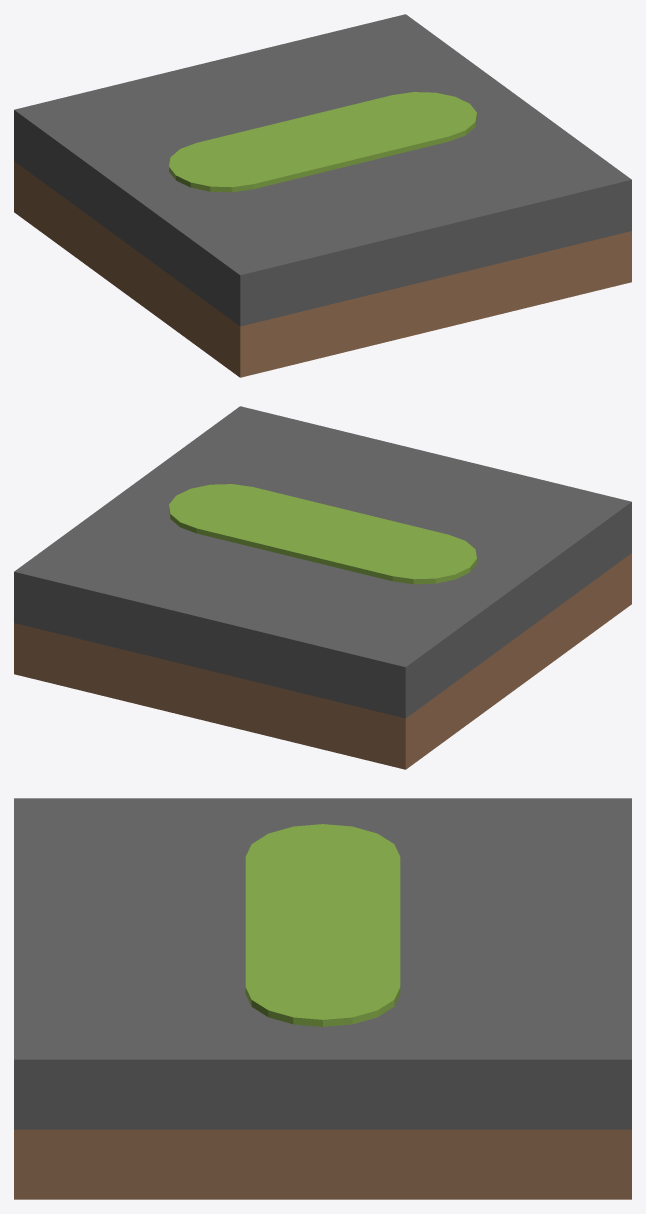
Rendered from lot-parking.obj.
The picture shows the model from 3 angles, top to bottom: view 1: azimuth 30°, elevation 25°; view 2: azimuth 150°, elevation 25°; view 3: azimuth 270°, elevation 25°; orthographic projection. The views are drawn at different scales.
Visible parts, largest first — view 1: lot-parking_Cube.017; view 2: lot-parking_Cube.017; view 3: lot-parking_Cube.017.
Boxes of the visible parts, left/top/right/bottom form: lot-parking_Cube.017: left=14, top=14, right=631, bottom=377; lot-parking_Cube.017: left=14, top=406, right=631, bottom=769; lot-parking_Cube.017: left=14, top=798, right=631, bottom=1199.
Bounding box in the file's own units: 8 × 2.1 × 8.
1 material, 1 textured.
